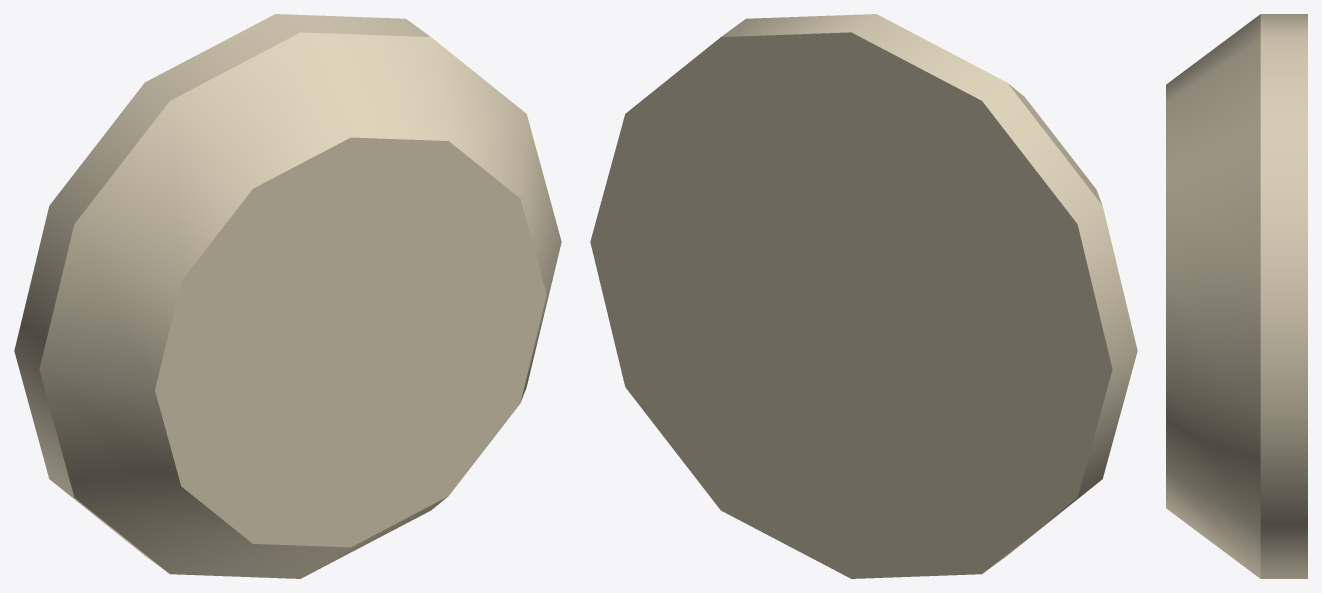
Rendered from k5_seal.obj.
The picture shows the model from 3 angles, left to right: view 1: azimuth 30°, elevation 25°; view 2: azimuth 150°, elevation 25°; view 3: azimuth 270°, elevation 25°; orthographic projection. The views are drawn at different scales.
Parts seen in each view (by area): view 1: k5_seal; view 2: k5_seal; view 3: k5_seal.
Part boxes in pixels (<box>): k5_seal: <box>14,14,561,578</box>; k5_seal: <box>590,14,1137,578</box>; k5_seal: <box>1166,14,1307,578</box>.
Size of the model in its own units: 0.6048 by 0.6048 by 0.1512.
